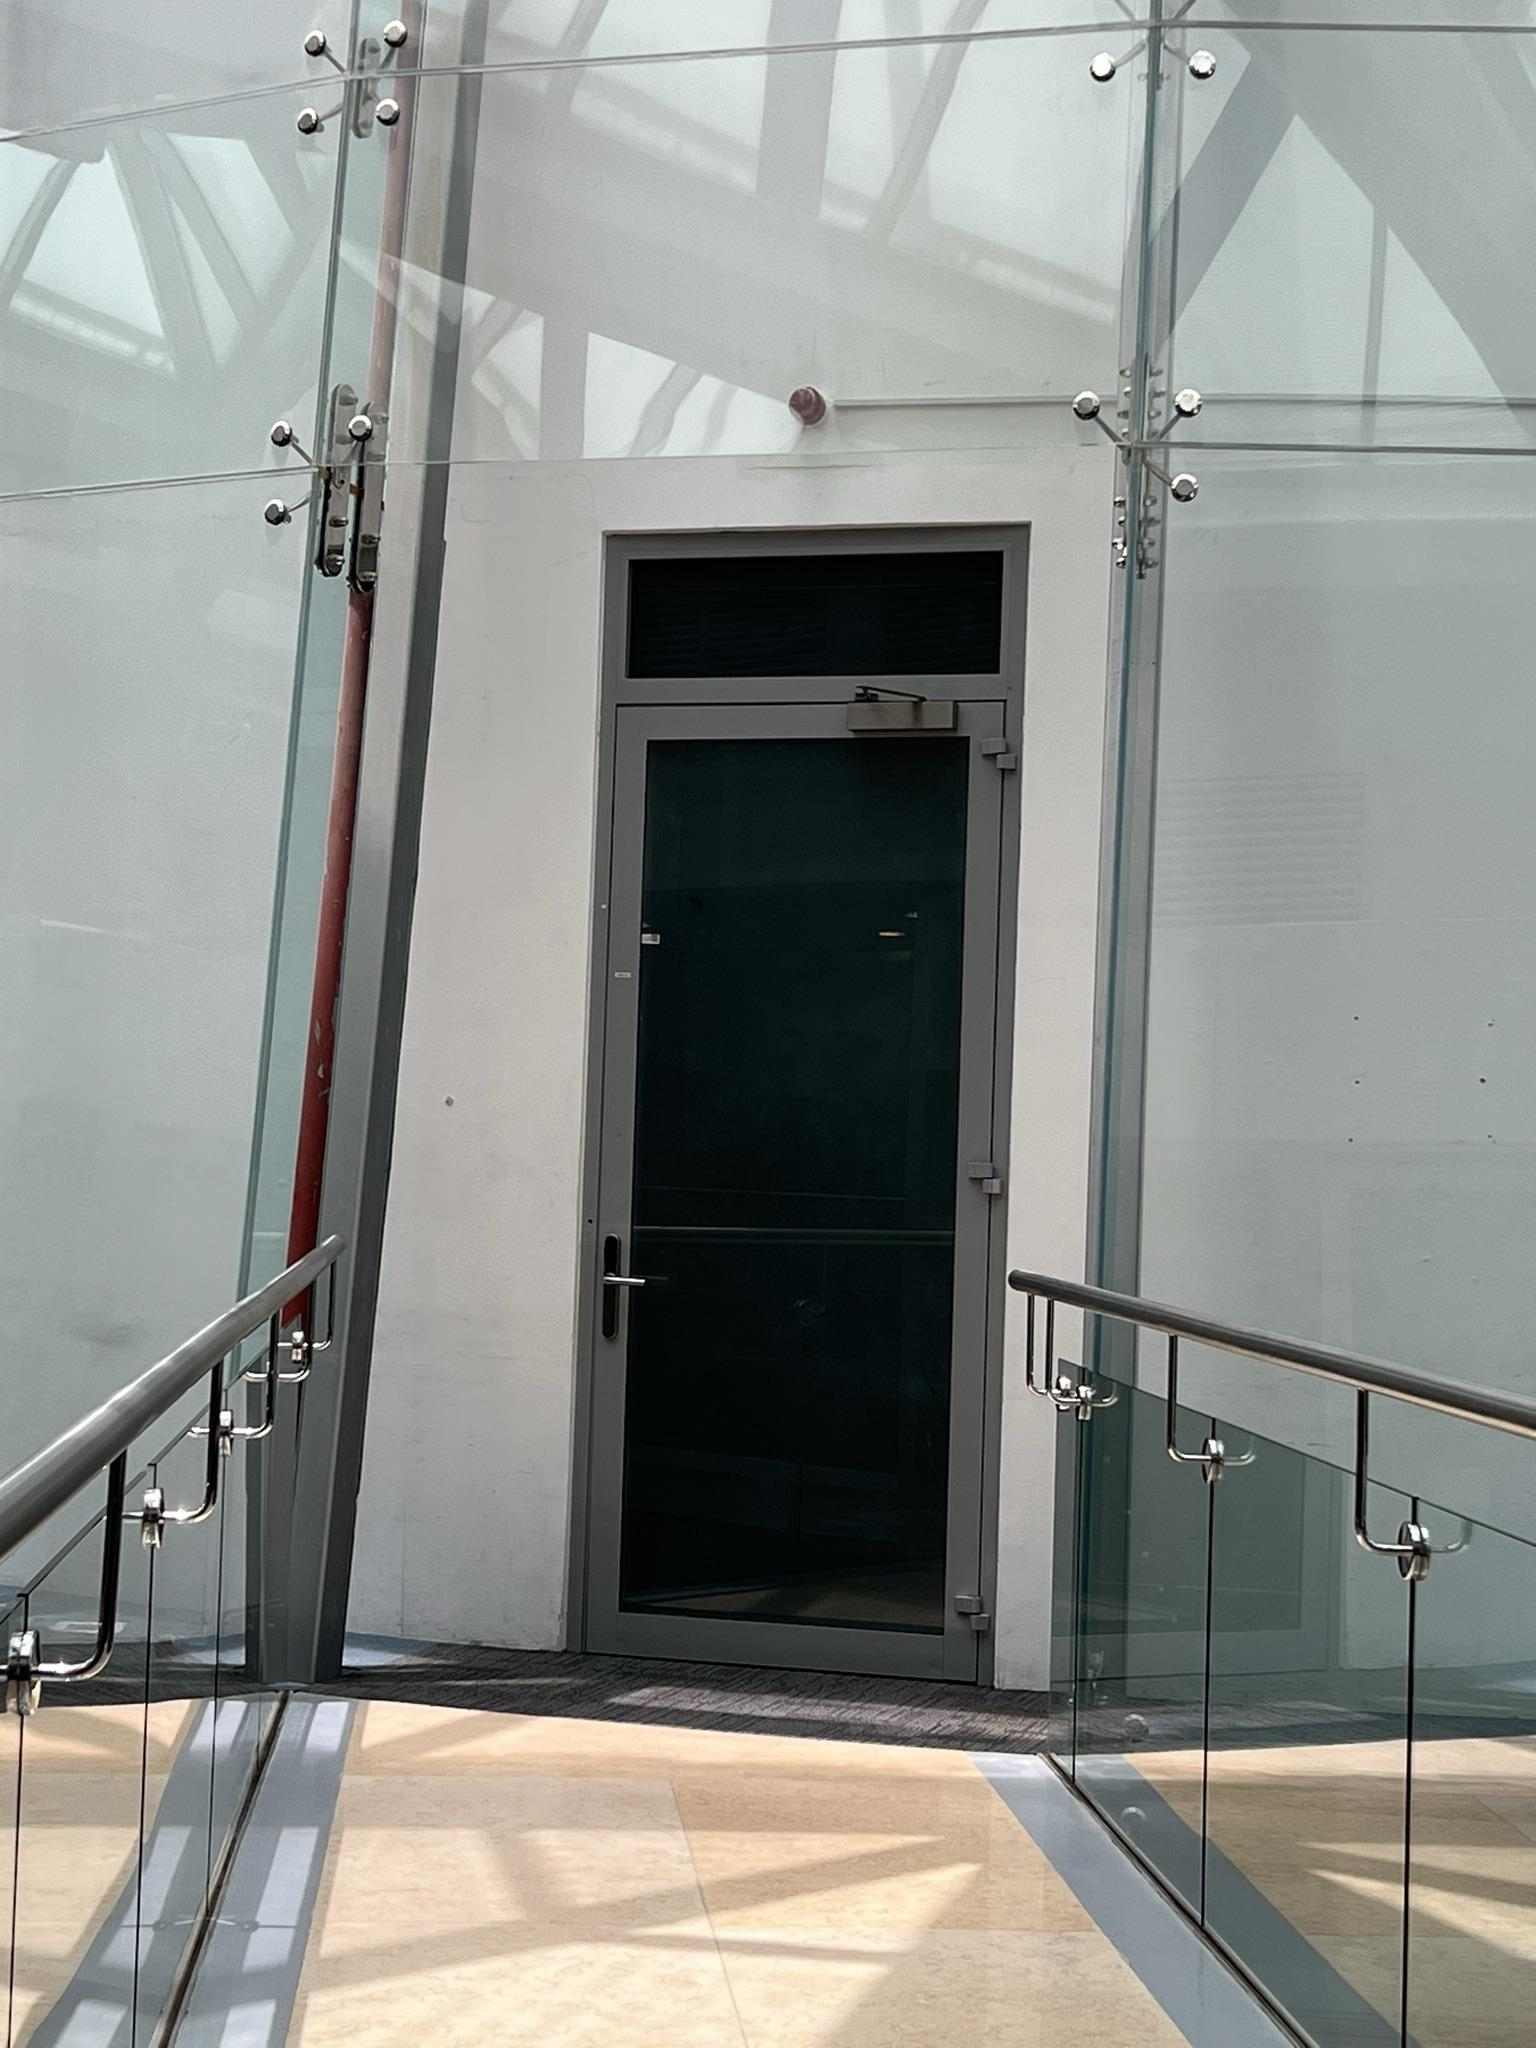door: (566, 516, 1025, 1682)
handle: (579, 1221, 649, 1363)
